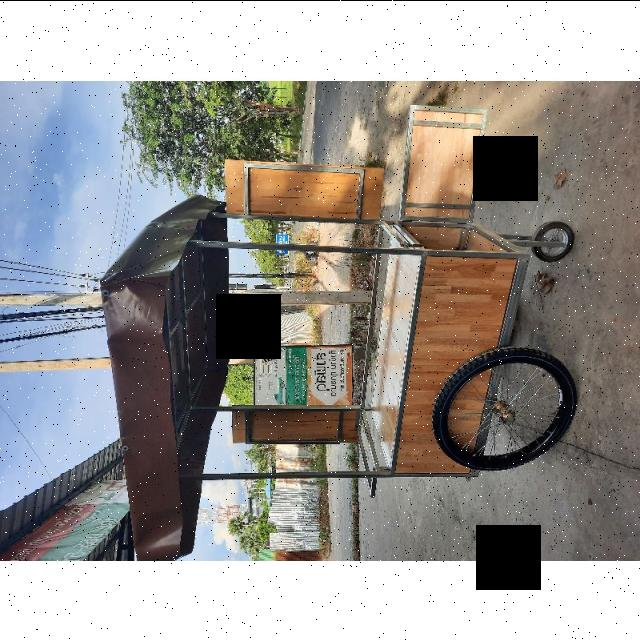food-booth: (101, 196, 578, 560)
